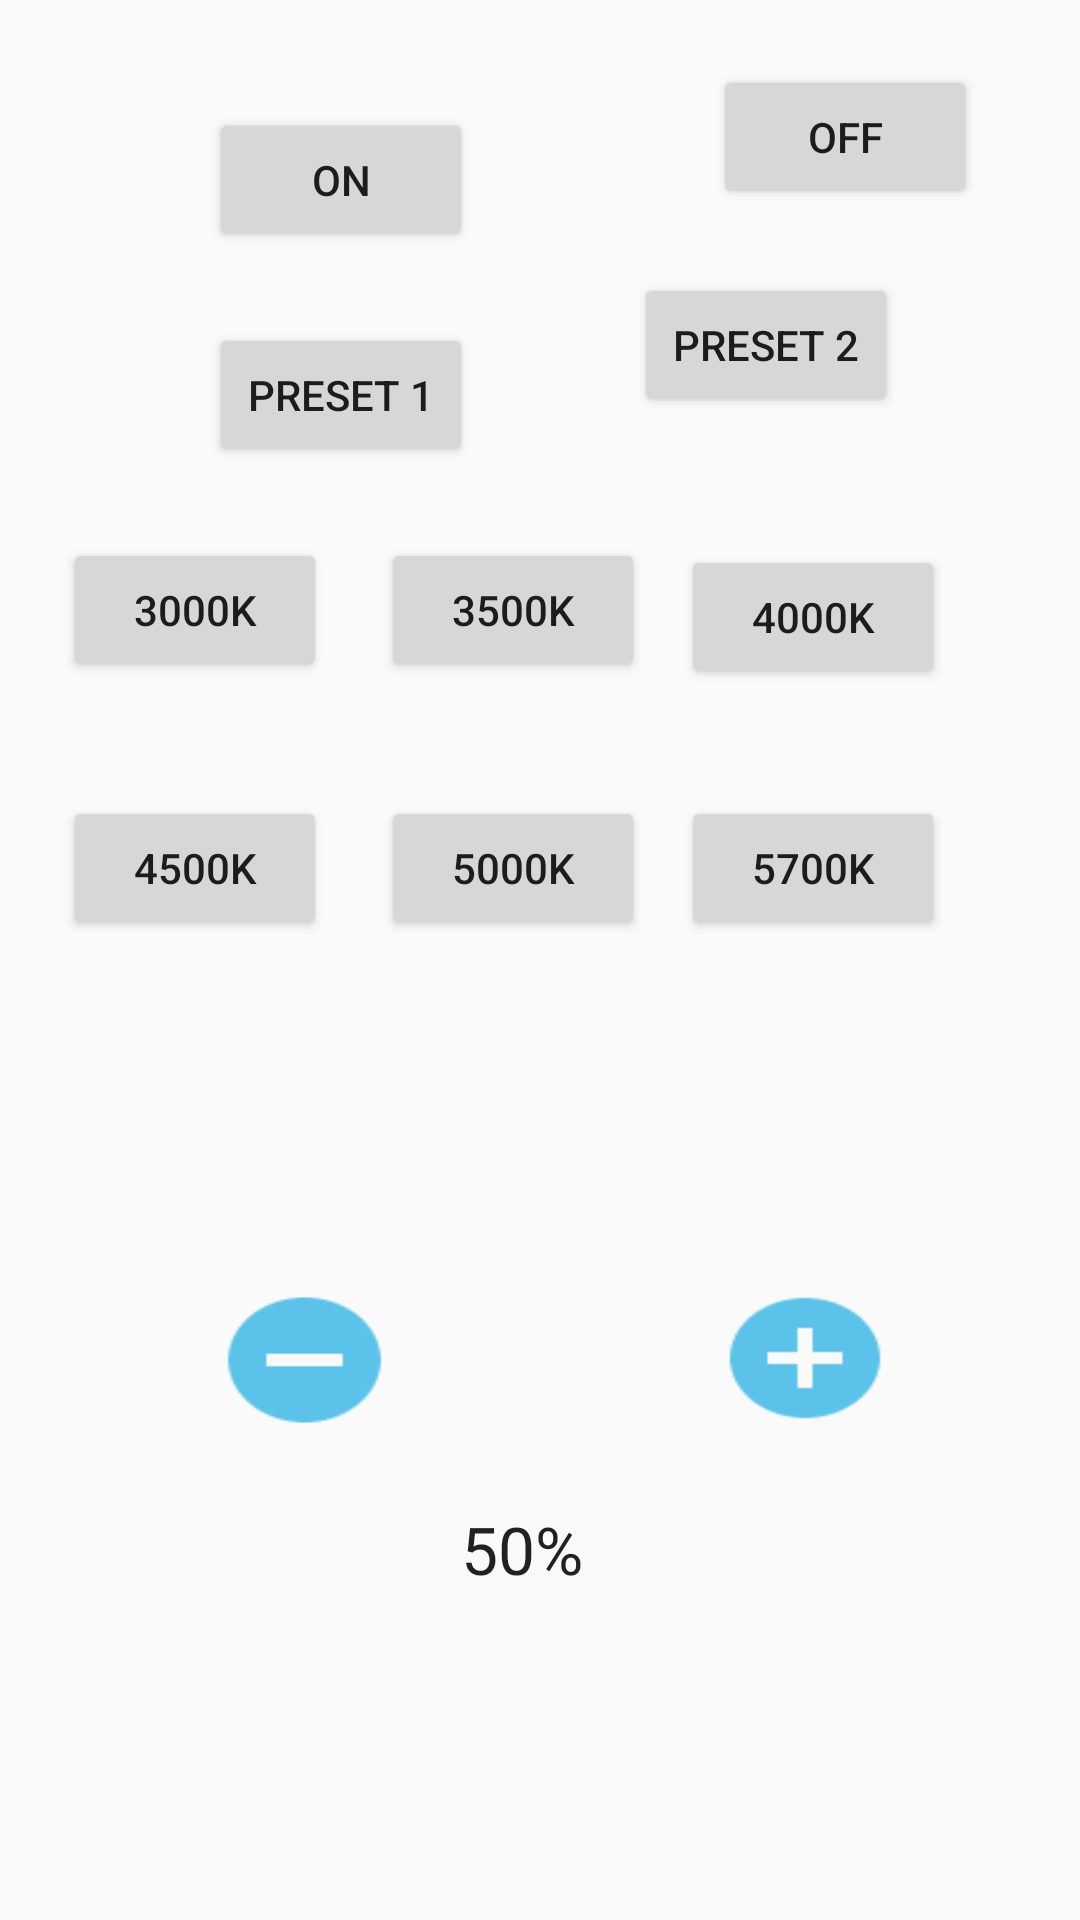

Point at icon controls on the screen. Image size 1080×1920, points as (x=x, y=y).
add bright: (x=805, y=1358)
reduce bright: (x=304, y=1360)
